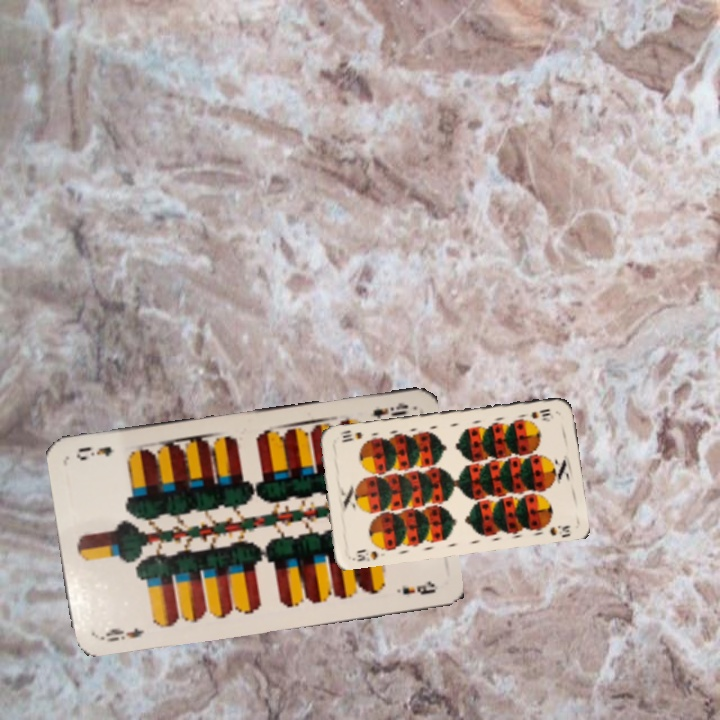E9: (96, 624, 147, 645), (369, 398, 411, 422)
S10: (353, 545, 380, 564), (526, 404, 553, 421)
